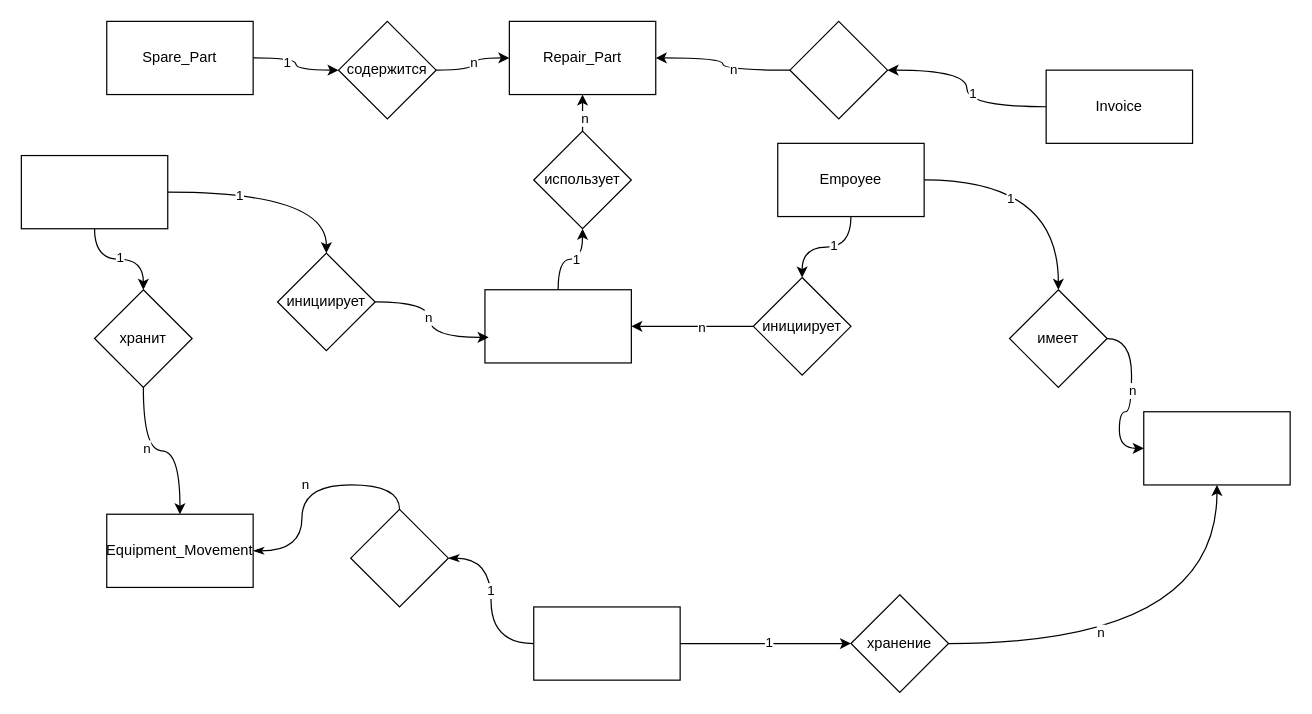
Some shapes in this 1312 by 714 pixel diagram are drawn without their labels. Here are the shapes that lost their labels. From the top down, the centre of each, then its label:
(838,69): описывает
(94,191): Equipment
(557,326): Repair
(1216,448): Employment_History
(399,557): запись
(606,643): Department
